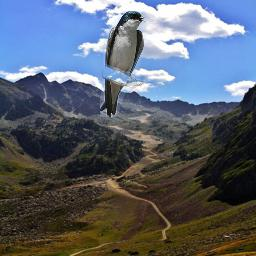Swallow: (100, 11, 146, 117)
